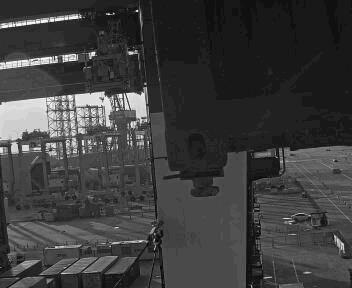twist_lock_1: (167, 164, 229, 201)
